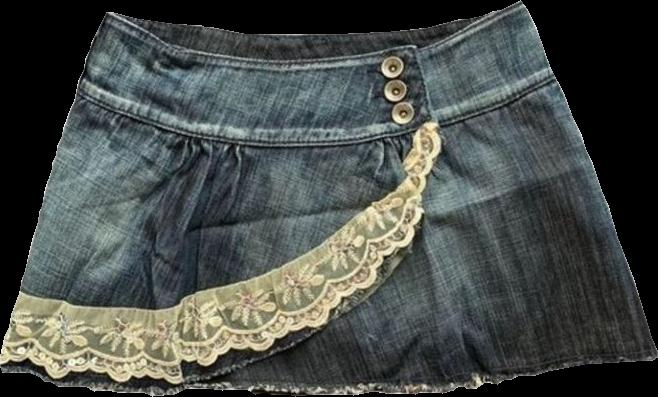Hemline: (0, 125, 438, 387), (4, 355, 657, 391)
Waistline: (77, 73, 558, 148), (107, 0, 520, 66)
